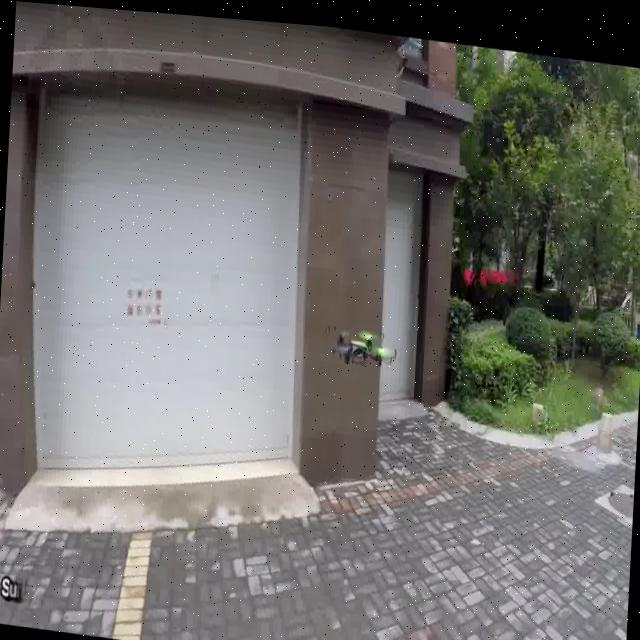drone: (324, 303, 399, 375)
